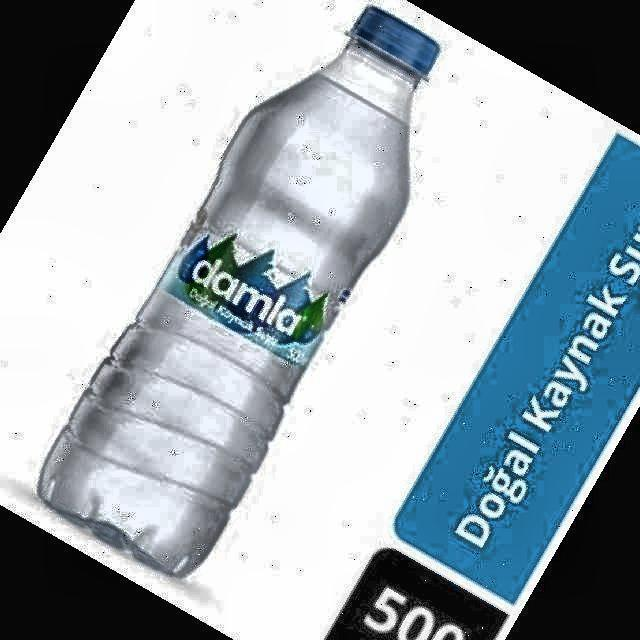plastic: (40, 8, 438, 574)
